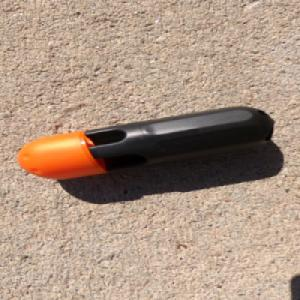PlasticPart: (15, 106, 275, 182)
